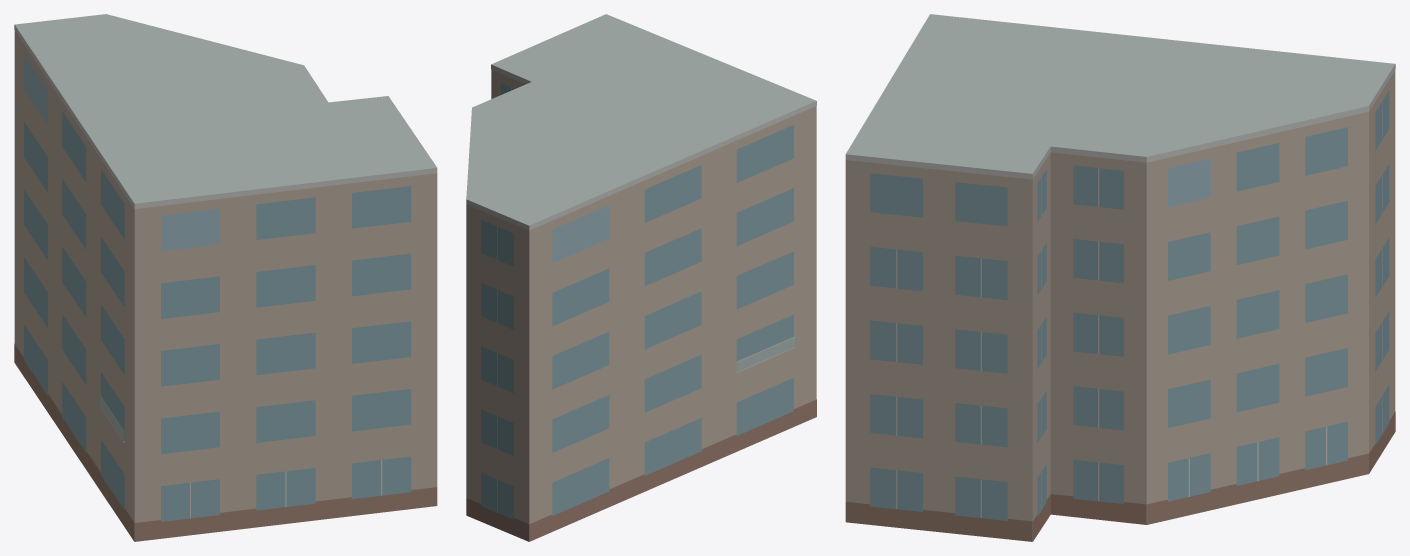
Rendered from survey-upis-32692885.glb.
3 views of the same model, side by side, from view 1: azimuth 30°, elevation 25°; view 2: azimuth 150°, elevation 25°; view 3: azimuth 270°, elevation 25° (orthographic). The views are drawn at different scales.
Visible parts, largest first — view 1: survey-upis-32692885.tmp; view 2: survey-upis-32692885.tmp; view 3: survey-upis-32692885.tmp.
Boxes of the visible parts, <box> form: survey-upis-32692885.tmp: <box>14,14,437,541</box>; survey-upis-32692885.tmp: <box>466,14,816,541</box>; survey-upis-32692885.tmp: <box>845,14,1395,541</box>.
Bounding box in the file's own units: 14.55 × 15.6 × 21.13.
